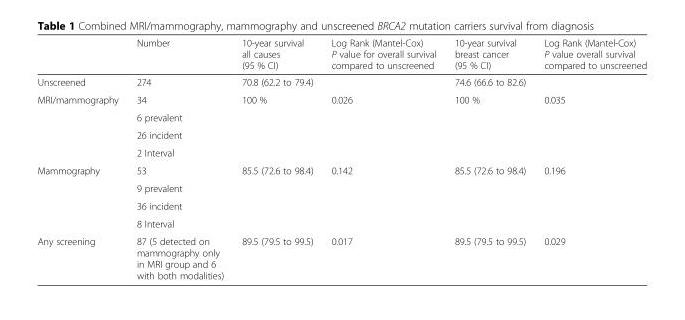table: (36, 36, 646, 280)
table column: (321, 36, 444, 280), (534, 36, 646, 280), (126, 36, 232, 280), (36, 36, 126, 280), (444, 36, 534, 280), (232, 36, 321, 280)
table column header: (36, 36, 646, 73)
table row: (36, 232, 646, 280), (36, 36, 646, 73), (36, 90, 646, 108), (36, 125, 646, 143), (36, 143, 646, 161), (36, 161, 646, 179), (36, 196, 646, 214), (36, 214, 646, 232), (36, 73, 646, 90), (36, 108, 646, 125), (36, 179, 646, 196)
table spanning cell: (321, 90, 444, 161), (321, 161, 444, 232), (534, 90, 646, 161), (534, 161, 646, 232), (36, 90, 126, 161), (444, 90, 534, 161), (36, 161, 126, 232), (444, 161, 534, 232), (232, 90, 321, 161), (232, 161, 321, 232)
